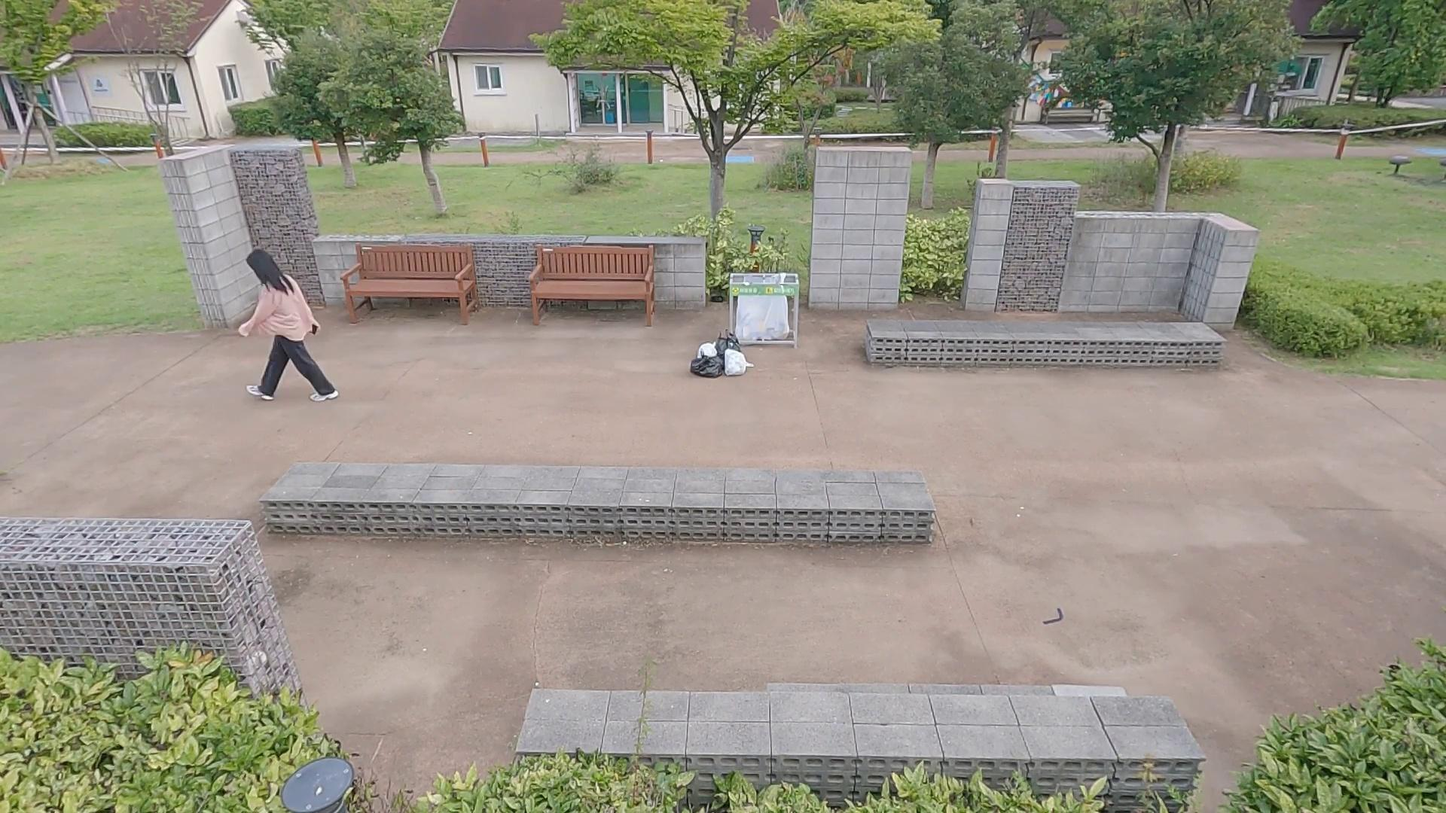person: (233, 245, 346, 412)
trash: (724, 348, 756, 377), (691, 356, 724, 381), (697, 339, 721, 369), (716, 328, 739, 354)
